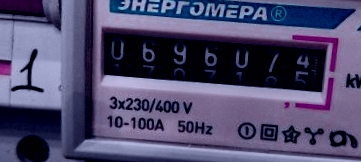0: (106, 35, 127, 61), (232, 43, 250, 70)
4: (294, 47, 310, 69)
5: (293, 69, 308, 89)
6: (137, 36, 158, 63), (201, 40, 220, 68)
7: (263, 47, 281, 74)
9: (169, 39, 188, 67)
screen: (90, 13, 342, 112)
